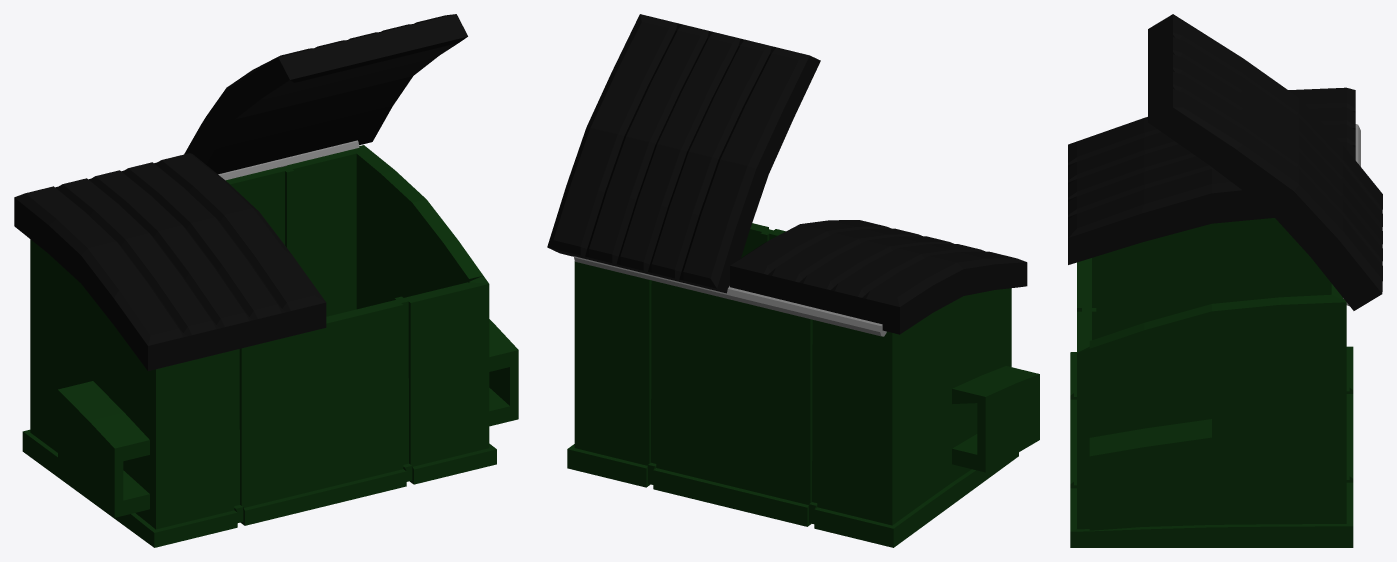
File: DumpsterHalf.fbx
3 views of the same model, side by side, from view 1: azimuth 30°, elevation 25°; view 2: azimuth 150°, elevation 25°; view 3: azimuth 270°, elevation 25° (orthographic). The views are drawn at different scales.
Parts seen in each view (by area): view 1: DumpsterHalf; view 2: DumpsterHalf; view 3: DumpsterHalf.
Boxes of the visible parts, x1=… form: DumpsterHalf: x1=14, y1=14, x2=518, y2=547; DumpsterHalf: x1=547, y1=14, x2=1039, y2=547; DumpsterHalf: x1=1068, y1=14, x2=1382, y2=547.
Bounding box in the file's own units: 180 × 176 × 113.
